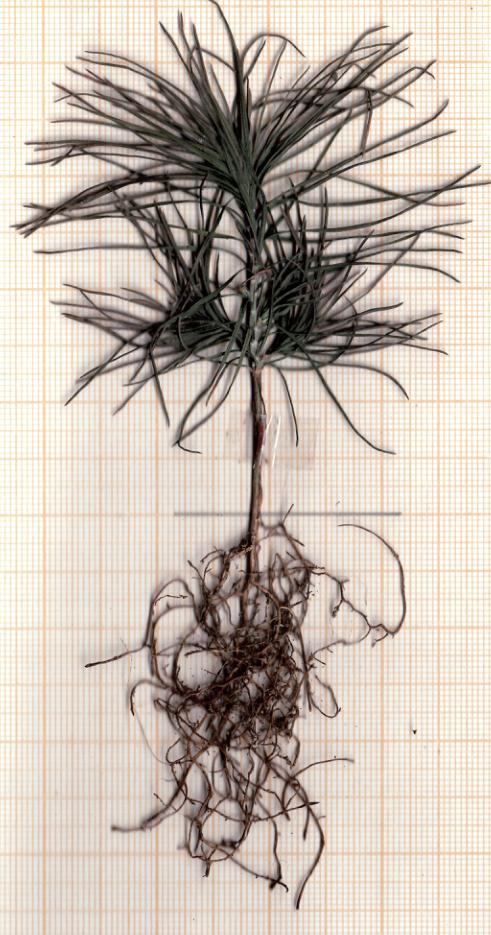flower: (11, 1, 491, 456)
root: (83, 521, 411, 913)
stem: (241, 375, 273, 515)
